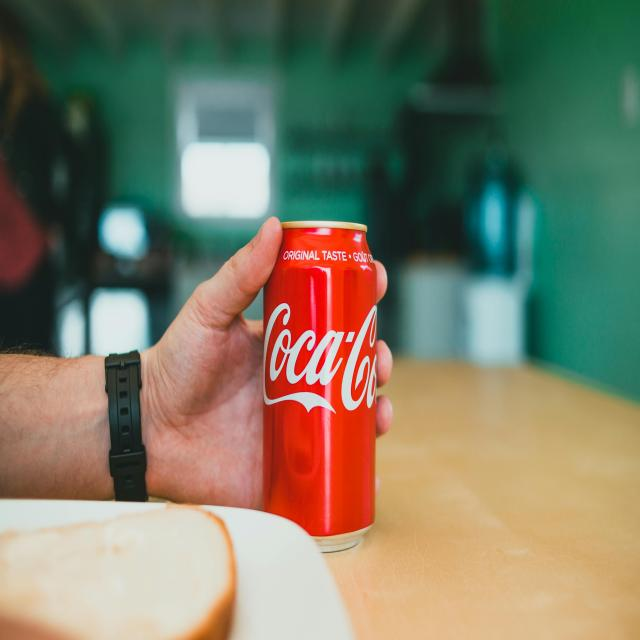cocacola: (260, 214, 382, 553)
